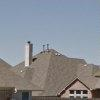Chimney: (21, 37, 38, 72)
